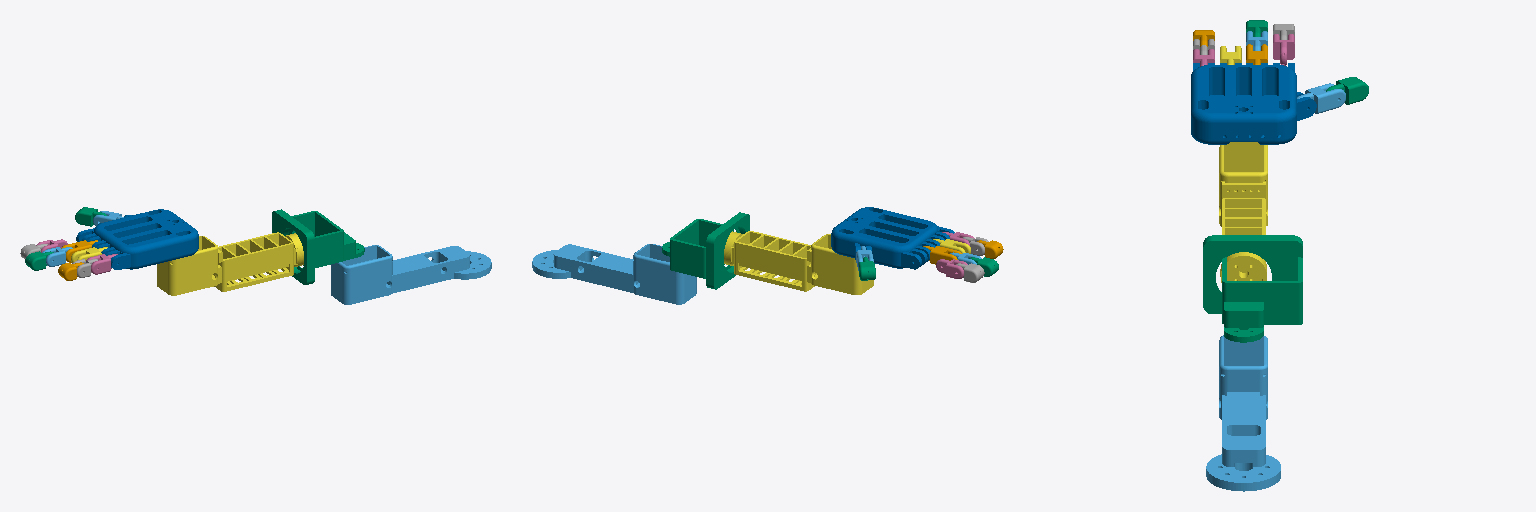
robot.urdf — cocomi_arm_v4:
<?xml version="1.0"?>
<!-- COCOMI / ここちゃん arm v4 (auto-generated). PLA mass = ~50% printed estimate; servos/actuator added as boxes.
     STS3215 55 g x3, 6806 bearing 18 g, 5 tendon micro servos 11 g each (PLACEHOLDER) in forearm_distal, AK45-10 placeholder 260 g. Units m/kg/rad.
     Each finger has its own actuated joint <name>_curl; distal segments use <mimic> (approximates one tendon curling all segments).
     Positive angle = curl toward the palm (axis 0 -1 0, same sign convention as the viewer). -->
<robot name="cocomi_arm_v4">
 <link name="shoulder_base">
  <inertial><origin xyz="3.7728e-10 0.00039949 -0.023343"/><mass value="0.27900"/>
   <inertia ixx="1.1966e-04" ixy="-8.6654e-13" ixz="-8.3695e-13" iyy="1.1667e-04" iyz="2.3620e-06" izz="1.3768e-04"/></inertial>
  <visual><origin xyz="0 0 0" rpy="0 0 0"/><geometry><mesh filename="shoulder_cup.stl" scale="0.001 0.001 0.001"/></geometry></visual>
  <visual><origin xyz="0 0 0" rpy="0 0 0"/><geometry><mesh filename="actuator_AK45-10_placeholder.stl" scale="0.001 0.001 0.001"/></geometry></visual>
 </link>
 <link name="upper_arm">
  <inertial><origin xyz="-0.088002 -5.6798e-12 0.019498"/><mass value="0.09141"/>
   <inertia ixx="1.7332e-05" ixy="3.6248e-14" ixz="1.6594e-05" iyy="1.4181e-04" iyz="5.4687e-15" izz="1.3773e-04"/></inertial>
  <visual><origin xyz="0 0 0" rpy="0 0 0"/><geometry><mesh filename="upper_arm.stl" scale="0.001 0.001 0.001"/></geometry></visual>
  <collision><geometry><mesh filename="upper_arm.stl" scale="0.001 0.001 0.001"/></geometry></collision>
 </link>
 <link name="forearm">
  <inertial><origin xyz="-0.038925 0.0091292 0.014781"/><mass value="0.09619"/>
   <inertia ixx="2.6797e-05" ixy="-2.4713e-06" ixz="1.4432e-06" iyy="2.9391e-05" iyz="-1.9267e-07" izz="4.2018e-05"/></inertial>
  <visual><origin xyz="0 0 0" rpy="0 0 0"/><geometry><mesh filename="forearm_proximal.stl" scale="0.001 0.001 0.001"/></geometry></visual>
  <collision><geometry><mesh filename="forearm_proximal.stl" scale="0.001 0.001 0.001"/></geometry></collision>
 </link>
 <link name="forearm_distal">
  <inertial><origin xyz="-0.077106 9.3816e-11 0.0061274"/><mass value="0.14401"/>
   <inertia ixx="2.7371e-05" ixy="3.6514e-14" ixz="2.8906e-05" iyy="2.3086e-04" iyz="-2.3236e-13" izz="2.2025e-04"/></inertial>
  <visual><origin xyz="0 0 0" rpy="0 0 0"/><geometry><mesh filename="forearm_distal.stl" scale="0.001 0.001 0.001"/></geometry></visual>
  <collision><geometry><mesh filename="forearm_distal.stl" scale="0.001 0.001 0.001"/></geometry></collision>
 </link>
 <link name="hand">
  <inertial><origin xyz="-0.033109 0.00041034 0.010749"/><mass value="0.05379"/>
   <inertia ixx="2.5023e-05" ixy="-6.5660e-08" ixz="-3.6932e-07" iyy="3.9596e-05" iyz="-1.2020e-08" izz="6.0493e-05"/></inertial>
  <visual><origin xyz="0 0 0" rpy="0 0 0"/><geometry><mesh filename="palm.stl" scale="0.001 0.001 0.001"/></geometry></visual>
  <collision><geometry><mesh filename="palm.stl" scale="0.001 0.001 0.001"/></geometry></collision>
 </link>
 <joint name="shoulder_pitch" type="revolute"><parent link="shoulder_base"/><child link="upper_arm"/>
  <origin xyz="0 0 0"/><axis xyz="0 0 1"/><limit lower="-2.8" upper="0.8" effort="3" velocity="5"/></joint>
 <joint name="elbow" type="revolute"><parent link="upper_arm"/><child link="forearm"/>
  <origin xyz="-0.12 0 0.047"/><axis xyz="0 0 1"/><limit lower="-2.4" upper="0" effort="1.5" velocity="4"/></joint>
 <joint name="forearm_roll" type="revolute"><parent link="forearm"/><child link="forearm_distal"/>
  <origin xyz="-0.058 0 0.0156"/><axis xyz="1 0 0"/><limit lower="-1.5708" upper="1.5708" effort="1.5" velocity="4"/></joint>
 <joint name="wrist" type="revolute"><parent link="forearm_distal"/><child link="hand"/>
  <origin xyz="-0.124 0 0.036"/><axis xyz="0 0 1"/><limit lower="-1.2" upper="1.2" effort="1.5" velocity="4"/></joint>
 <link name="finger_index_1">
  <inertial><origin xyz="-0.015087 1.6252e-12 -9.642e-12"/><mass value="0.00236"/>
   <inertia ixx="6.9504e-08" ixy="-3.7352e-17" ixz="3.4880e-16" iyy="2.1203e-07" iyz="9.0762e-19" izz="2.2178e-07"/></inertial>
  <visual><origin xyz="0 0 0" rpy="0 0 0"/><geometry><mesh filename="finger_index_1.stl" scale="0.001 0.001 0.001"/></geometry></visual>
 </link>
 <joint name="index_curl" type="revolute"><parent link="hand"/><child link="finger_index_1"/>
  <origin xyz="-0.079 0.0255 0.011" rpy="0 0 0.0000"/><axis xyz="0 -1 0"/><limit lower="0" upper="1.400" effort="0.2" velocity="3"/></joint>
 <link name="finger_index_2">
  <inertial><origin xyz="-0.011191 2.7564e-12 -1.3414e-11"/><mass value="0.00150"/>
   <inertia ixx="4.3751e-08" ixy="-2.9150e-17" ixz="2.4155e-16" iyy="9.9056e-08" iyz="8.0441e-19" izz="1.0655e-07"/></inertial>
  <visual><origin xyz="0 0 0" rpy="0 0 0"/><geometry><mesh filename="finger_index_2.stl" scale="0.001 0.001 0.001"/></geometry></visual>
 </link>
 <joint name="index_j2" type="revolute"><parent link="finger_index_1"/><child link="finger_index_2"/>
  <origin xyz="-0.026 0 0"/><axis xyz="0 -1 0"/><limit lower="0" upper="1.610" effort="0.2" velocity="3"/><mimic joint="index_curl" multiplier="1.15" offset="0"/></joint>
 <link name="finger_index_3">
  <inertial><origin xyz="-0.011052 2.3766e-11 -3.146e-10"/><mass value="0.00173"/>
   <inertia ixx="4.3328e-08" ixy="1.8975e-16" ixz="-1.6801e-15" iyy="9.2277e-08" iyz="-2.9984e-16" izz="9.3665e-08"/></inertial>
  <visual><origin xyz="0 0 0" rpy="0 0 0"/><geometry><mesh filename="finger_index_3.stl" scale="0.001 0.001 0.001"/></geometry></visual>
 </link>
 <joint name="index_j3" type="revolute"><parent link="finger_index_2"/><child link="finger_index_3"/>
  <origin xyz="-0.018 0 0"/><axis xyz="0 -1 0"/><limit lower="0" upper="1.260" effort="0.2" velocity="3"/><mimic joint="index_curl" multiplier="0.9" offset="0"/></joint>
 <link name="finger_middle_1">
  <inertial><origin xyz="-0.016071 1.4604e-12 -9.0925e-12"/><mass value="0.00258"/>
   <inertia ixx="7.5942e-08" ixy="-3.9146e-17" ixz="3.7856e-16" iyy="2.5100e-07" iyz="9.3342e-19" izz="2.6132e-07"/></inertial>
  <visual><origin xyz="0 0 0" rpy="0 0 0"/><geometry><mesh filename="finger_middle_1.stl" scale="0.001 0.001 0.001"/></geometry></visual>
 </link>
 <joint name="middle_curl" type="revolute"><parent link="hand"/><child link="finger_middle_1"/>
  <origin xyz="-0.079 0.0085 0.011" rpy="0 0 0.0000"/><axis xyz="0 -1 0"/><limit lower="0" upper="1.400" effort="0.2" velocity="3"/></joint>
 <link name="finger_middle_2">
  <inertial><origin xyz="-0.012155 2.3673e-12 -1.2117e-11"/><mass value="0.00172"/>
   <inertia ixx="5.0189e-08" ixy="-3.1339e-17" ixz="2.6654e-16" iyy="1.2172e-07" iyz="8.3021e-19" izz="1.2978e-07"/></inertial>
  <visual><origin xyz="0 0 0" rpy="0 0 0"/><geometry><mesh filename="finger_middle_2.stl" scale="0.001 0.001 0.001"/></geometry></visual>
 </link>
 <joint name="middle_j2" type="revolute"><parent link="finger_middle_1"/><child link="finger_middle_2"/>
  <origin xyz="-0.028 0 0"/><axis xyz="0 -1 0"/><limit lower="0" upper="1.610" effort="0.2" velocity="3"/><mimic joint="middle_curl" multiplier="1.15" offset="0"/></joint>
 <link name="finger_middle_3">
  <inertial><origin xyz="-0.011605 2.242e-11 -3.072e-10"/><mass value="0.00184"/>
   <inertia ixx="4.6547e-08" ixy="2.1159e-16" ixz="-1.9144e-15" iyy="1.0304e-07" iyz="-3.0897e-16" izz="1.0471e-07"/></inertial>
  <visual><origin xyz="0 0 0" rpy="0 0 0"/><geometry><mesh filename="finger_middle_3.stl" scale="0.001 0.001 0.001"/></geometry></visual>
 </link>
 <joint name="middle_j3" type="revolute"><parent link="finger_middle_2"/><child link="finger_middle_3"/>
  <origin xyz="-0.02 0 0"/><axis xyz="0 -1 0"/><limit lower="0" upper="1.260" effort="0.2" velocity="3"/><mimic joint="middle_curl" multiplier="0.9" offset="0"/></joint>
 <link name="finger_ring_1">
  <inertial><origin xyz="-0.015087 1.6252e-12 -9.642e-12"/><mass value="0.00236"/>
   <inertia ixx="6.9504e-08" ixy="-3.7352e-17" ixz="3.4880e-16" iyy="2.1203e-07" iyz="9.0762e-19" izz="2.2178e-07"/></inertial>
  <visual><origin xyz="0 0 0" rpy="0 0 0"/><geometry><mesh filename="finger_ring_1.stl" scale="0.001 0.001 0.001"/></geometry></visual>
 </link>
 <joint name="ring_curl" type="revolute"><parent link="hand"/><child link="finger_ring_1"/>
  <origin xyz="-0.079 -0.0085 0.011" rpy="0 0 0.0000"/><axis xyz="0 -1 0"/><limit lower="0" upper="1.400" effort="0.2" velocity="3"/></joint>
 <link name="finger_ring_2">
  <inertial><origin xyz="-0.011191 2.7564e-12 -1.3414e-11"/><mass value="0.00150"/>
   <inertia ixx="4.3751e-08" ixy="-2.9150e-17" ixz="2.4155e-16" iyy="9.9056e-08" iyz="8.0441e-19" izz="1.0655e-07"/></inertial>
  <visual><origin xyz="0 0 0" rpy="0 0 0"/><geometry><mesh filename="finger_ring_2.stl" scale="0.001 0.001 0.001"/></geometry></visual>
 </link>
 <joint name="ring_j2" type="revolute"><parent link="finger_ring_1"/><child link="finger_ring_2"/>
  <origin xyz="-0.026 0 0"/><axis xyz="0 -1 0"/><limit lower="0" upper="1.610" effort="0.2" velocity="3"/><mimic joint="ring_curl" multiplier="1.15" offset="0"/></joint>
 <link name="finger_ring_3">
  <inertial><origin xyz="-0.011052 2.3766e-11 -3.146e-10"/><mass value="0.00173"/>
   <inertia ixx="4.3328e-08" ixy="1.8975e-16" ixz="-1.6801e-15" iyy="9.2277e-08" iyz="-2.9984e-16" izz="9.3665e-08"/></inertial>
  <visual><origin xyz="0 0 0" rpy="0 0 0"/><geometry><mesh filename="finger_ring_3.stl" scale="0.001 0.001 0.001"/></geometry></visual>
 </link>
 <joint name="ring_j3" type="revolute"><parent link="finger_ring_2"/><child link="finger_ring_3"/>
  <origin xyz="-0.018 0 0"/><axis xyz="0 -1 0"/><limit lower="0" upper="1.260" effort="0.2" velocity="3"/><mimic joint="ring_curl" multiplier="0.9" offset="0"/></joint>
 <link name="finger_pinky_1">
  <inertial><origin xyz="-0.01264 2.2071e-12 -1.1583e-11"/><mass value="0.00182"/>
   <inertia ixx="5.3408e-08" ixy="-3.2402e-17" ixz="2.7951e-16" iyy="1.3432e-07" iyz="8.4311e-19" izz="1.4266e-07"/></inertial>
  <visual><origin xyz="0 0 0" rpy="0 0 0"/><geometry><mesh filename="finger_pinky_1.stl" scale="0.001 0.001 0.001"/></geometry></visual>
 </link>
 <joint name="pinky_curl" type="revolute"><parent link="hand"/><child link="finger_pinky_1"/>
  <origin xyz="-0.079 -0.0255 0.011" rpy="0 0 0.0000"/><axis xyz="0 -1 0"/><limit lower="0" upper="1.400" effort="0.2" velocity="3"/></joint>
 <link name="finger_pinky_2">
  <inertial><origin xyz="-0.009762 3.3991e-12 -1.6195e-11"/><mass value="0.00118"/>
   <inertia ixx="3.4219e-08" ixy="-2.5030e-17" ixz="2.0636e-16" iyy="7.0669e-08" iyz="7.6429e-19" izz="7.7237e-08"/></inertial>
  <visual><origin xyz="0 0 0" rpy="0 0 0"/><geometry><mesh filename="finger_pinky_2.stl" scale="0.001 0.001 0.001"/></geometry></visual>
 </link>
 <joint name="pinky_j2" type="revolute"><parent link="finger_pinky_1"/><child link="finger_pinky_2"/>
  <origin xyz="-0.021 0 0"/><axis xyz="0 -1 0"/><limit lower="0" upper="1.610" effort="0.2" velocity="3"/><mimic joint="pinky_curl" multiplier="1.15" offset="0"/></joint>
 <link name="finger_pinky_3">
  <inertial><origin xyz="-0.0099218 2.703e-11 -3.3254e-10"/><mass value="0.00152"/>
   <inertia ixx="3.6890e-08" ixy="1.4973e-16" ixz="-1.2567e-15" iyy="7.3247e-08" iyz="-2.8159e-16" izz="7.4070e-08"/></inertial>
  <visual><origin xyz="0 0 0" rpy="0 0 0"/><geometry><mesh filename="finger_pinky_3.stl" scale="0.001 0.001 0.001"/></geometry></visual>
 </link>
 <joint name="pinky_j3" type="revolute"><parent link="finger_pinky_2"/><child link="finger_pinky_3"/>
  <origin xyz="-0.015 0 0"/><axis xyz="0 -1 0"/><limit lower="0" upper="1.260" effort="0.2" velocity="3"/><mimic joint="pinky_curl" multiplier="0.9" offset="0"/></joint>
 <link name="finger_thumb_1">
  <inertial><origin xyz="-0.014105 1.823e-12 -1.0302e-11"/><mass value="0.00215"/>
   <inertia ixx="6.3065e-08" ixy="-3.5449e-17" ixz="3.2020e-16" iyy="1.7778e-07" iyz="8.8182e-19" izz="1.8696e-07"/></inertial>
  <visual><origin xyz="0 0 0" rpy="0 0 0"/><geometry><mesh filename="finger_thumb_1.stl" scale="0.001 0.001 0.001"/></geometry></visual>
 </link>
 <joint name="thumb_curl" type="revolute"><parent link="hand"/><child link="finger_thumb_1"/>
  <origin xyz="-0.030589 0.037277 0.011" rpy="0 0 -0.9599"/><axis xyz="0 -1 0"/><limit lower="0" upper="1.000" effort="0.2" velocity="3"/></joint>
 <link name="finger_thumb_2">
  <inertial><origin xyz="-0.012696 2.0152e-11 -2.9473e-10"/><mass value="0.00205"/>
   <inertia ixx="5.2985e-08" ixy="2.5869e-16" ixz="-2.4268e-15" iyy="1.2736e-07" iyz="-3.2722e-16" izz="1.2960e-07"/></inertial>
  <visual><origin xyz="0 0 0" rpy="0 0 0"/><geometry><mesh filename="finger_thumb_2.stl" scale="0.001 0.001 0.001"/></geometry></visual>
 </link>
 <joint name="thumb_j2" type="revolute"><parent link="finger_thumb_1"/><child link="finger_thumb_2"/>
  <origin xyz="-0.024 0 0"/><axis xyz="0 -1 0"/><limit lower="0" upper="1.150" effort="0.2" velocity="3"/><mimic joint="thumb_curl" multiplier="1.15" offset="0"/></joint>
</robot>

--- Render facts (derived) ---
3 views of the same robot in one strip: view 1: azimuth 30°, elevation 25°; view 2: azimuth 150°, elevation 25°; view 3: azimuth 270°, elevation 25° (orthographic).
Model cocomi_arm_v4 with 19 links and 18 joints (18 revolute), rooted at shoulder_base, posed all joints at 0.
Links seen in each view (by area): view 1: forearm_distal, upper_arm, hand, forearm; view 2: forearm_distal, upper_arm, hand, forearm; view 3: hand, forearm, upper_arm, forearm_distal, finger_thumb_1, finger_thumb_2, finger_index_2.
Link boxes in pixels (x1=…): forearm_distal: x1=157, y1=232, x2=303, y2=295; upper_arm: x1=331, y1=245, x2=491, y2=304; hand: x1=76, y1=209, x2=198, y2=269; forearm: x1=272, y1=209, x2=364, y2=284; forearm_distal: x1=724, y1=231, x2=873, y2=294; upper_arm: x1=532, y1=244, x2=696, y2=304; hand: x1=831, y1=207, x2=954, y2=269; forearm: x1=662, y1=212, x2=749, y2=289; hand: x1=1191, y1=63, x2=1316, y2=144; forearm: x1=1203, y1=235, x2=1302, y2=342; upper_arm: x1=1206, y1=335, x2=1280, y2=491; forearm_distal: x1=1219, y1=142, x2=1267, y2=282; finger_thumb_1: x1=1297, y1=83, x2=1345, y2=113; finger_thumb_2: x1=1326, y1=77, x2=1368, y2=104; finger_index_2: x1=1273, y1=34, x2=1294, y2=65.
Size in the robot's own frame: 0.4755 by 0.1142 by 0.1176 metres.
15 mesh visuals loaded from 20 distinct referenced files (15 binary STL); not drawn: 5 (reference not matched to a file when rendering).
